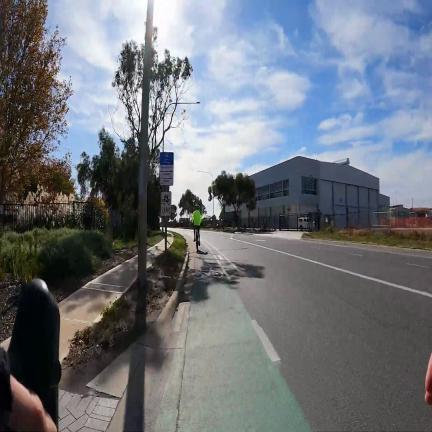Bike_Sign: (160, 152, 173, 189), (161, 190, 171, 216)
Green_Bike_Lane: (177, 255, 311, 432)
